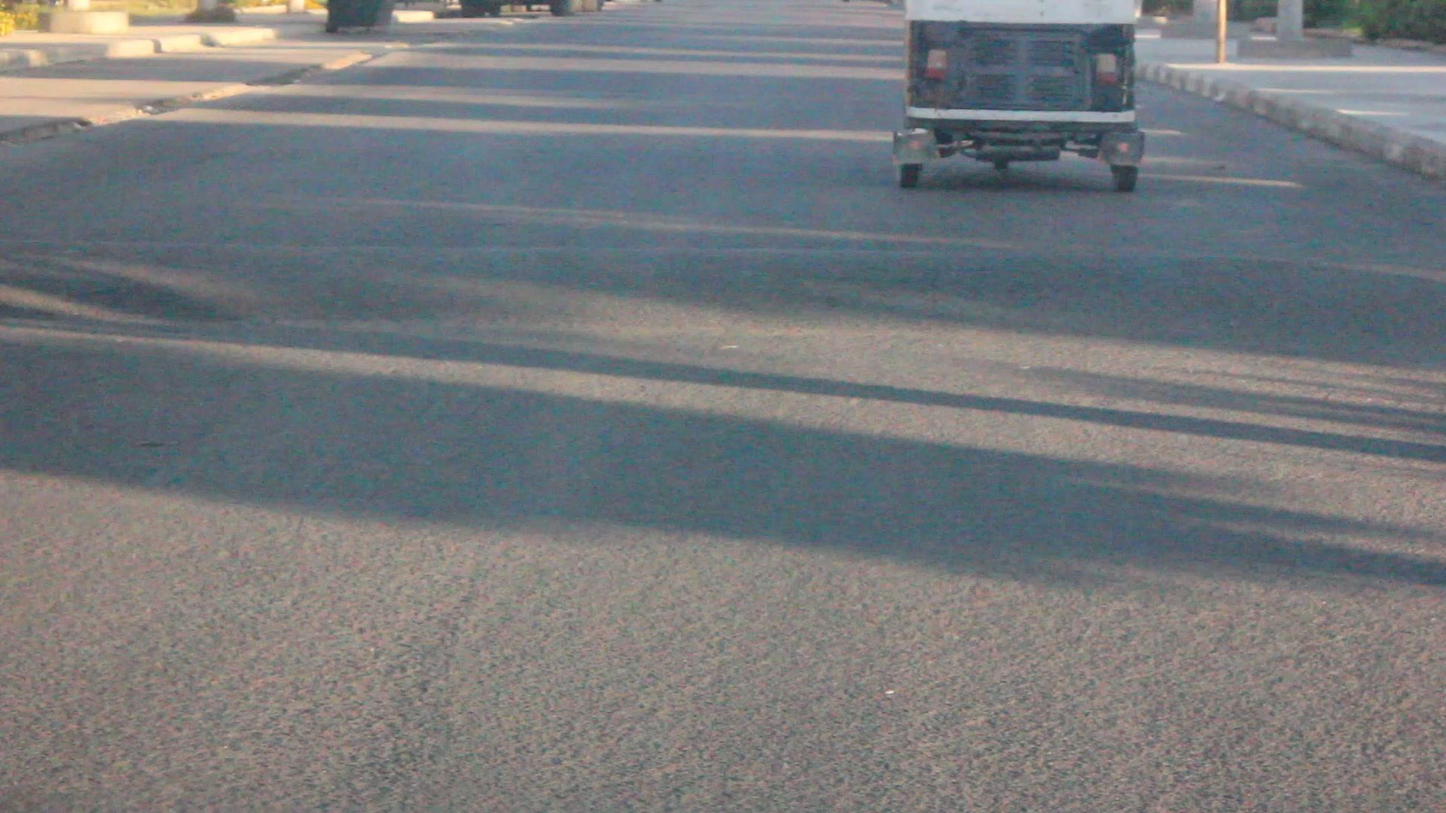Bump: (6, 211, 1446, 393)
